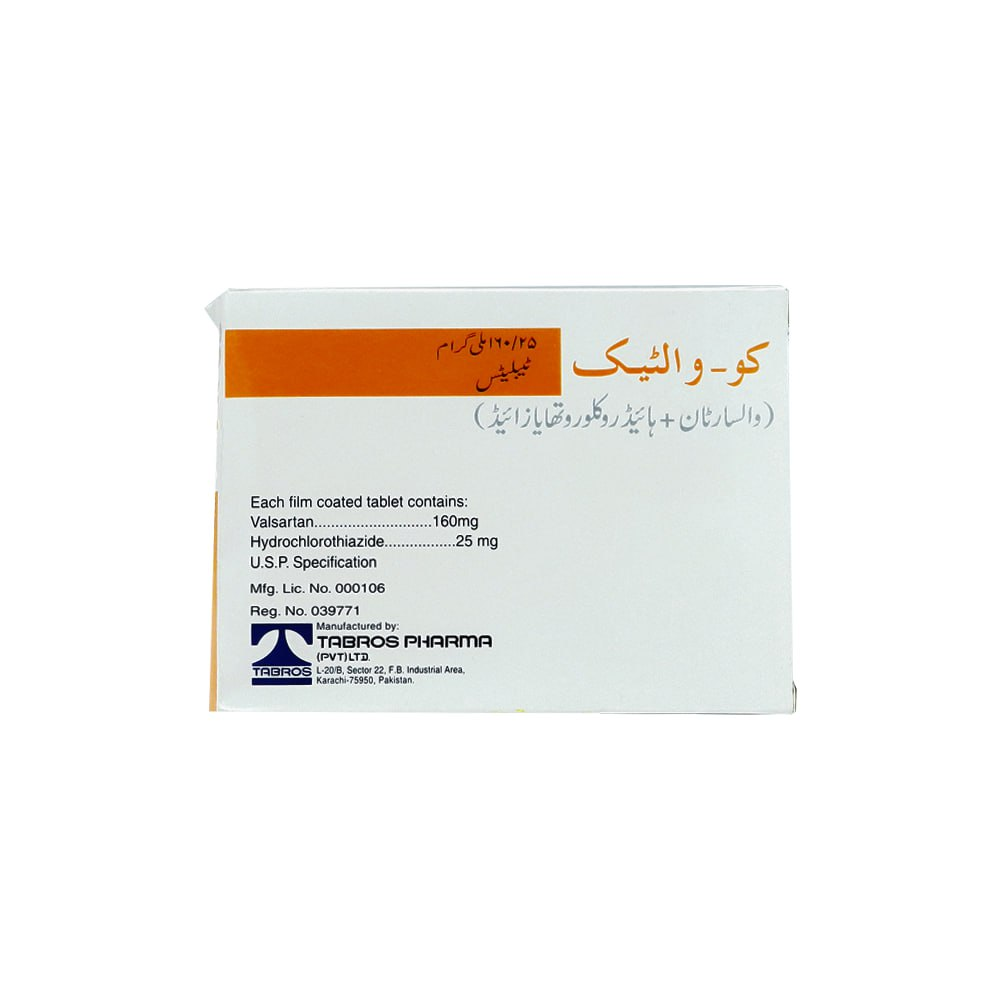Medicine: (192, 272, 812, 738)
